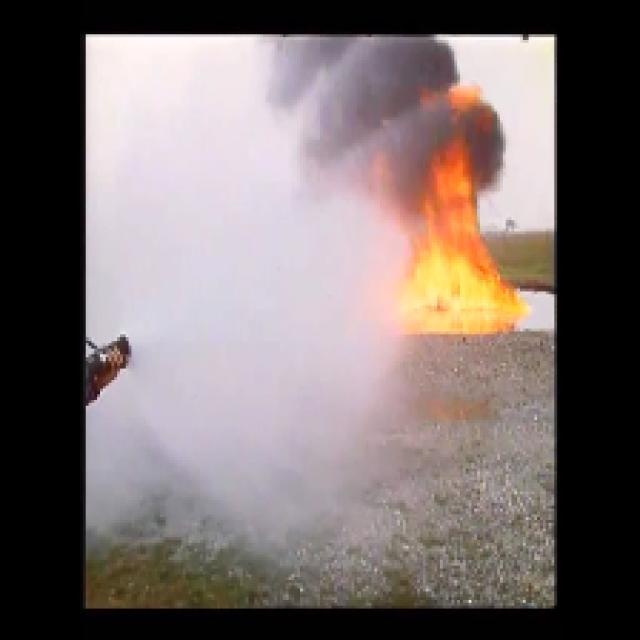Fire: (426, 198, 518, 329)
Smoke: (285, 36, 448, 168)
